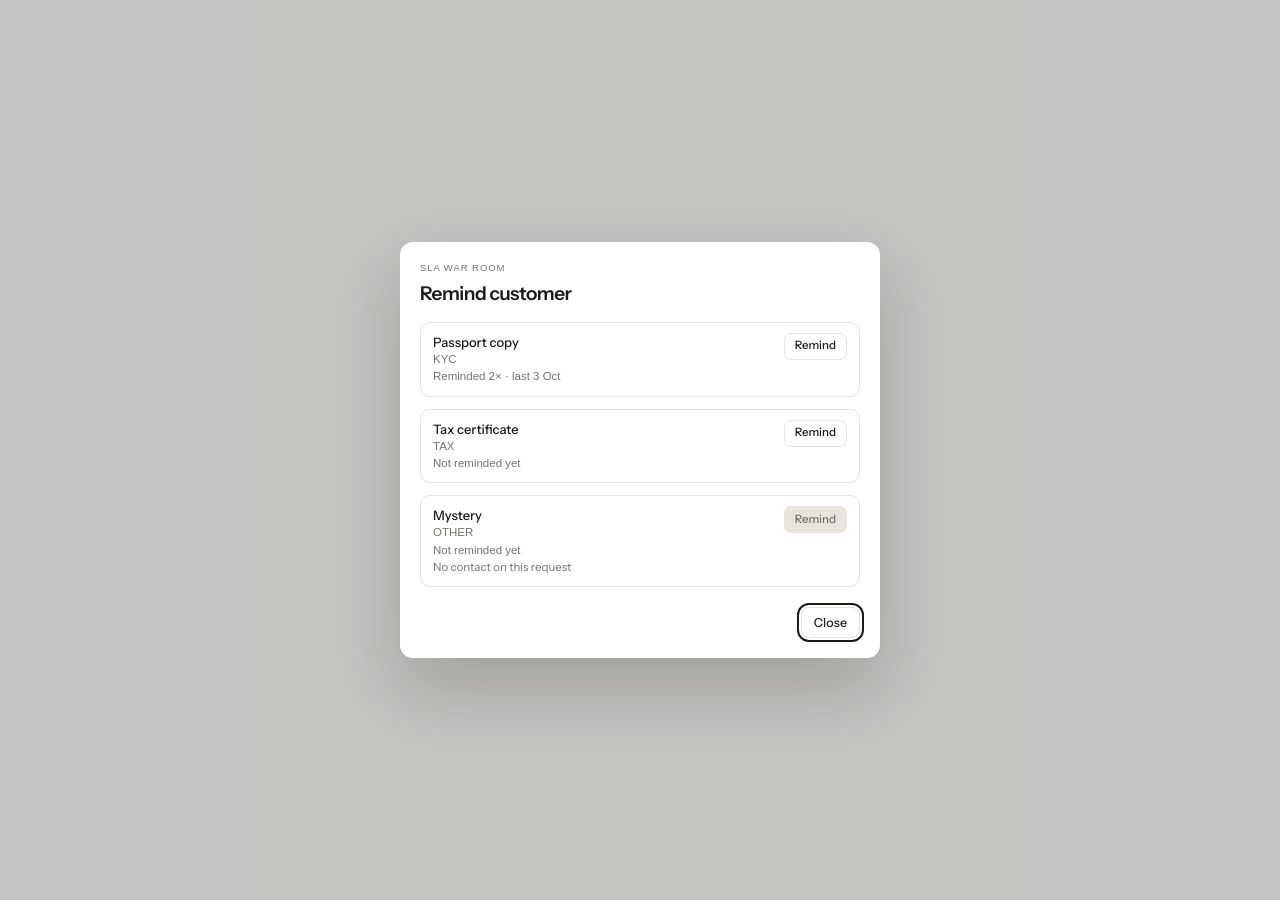
Test: RemindCustomerDialog › a 409 shows the 24-hour message on that row and keeps the dialog open
The width and height of the screenshot is (1280, 900).
Expected: the text "Tax certificate" is shown, [433,420,521,438]
Step 1. Click the button "Remind" in the row of "Tax certificate" → {"x": 815, "y": 433}, box [784,420,847,447]
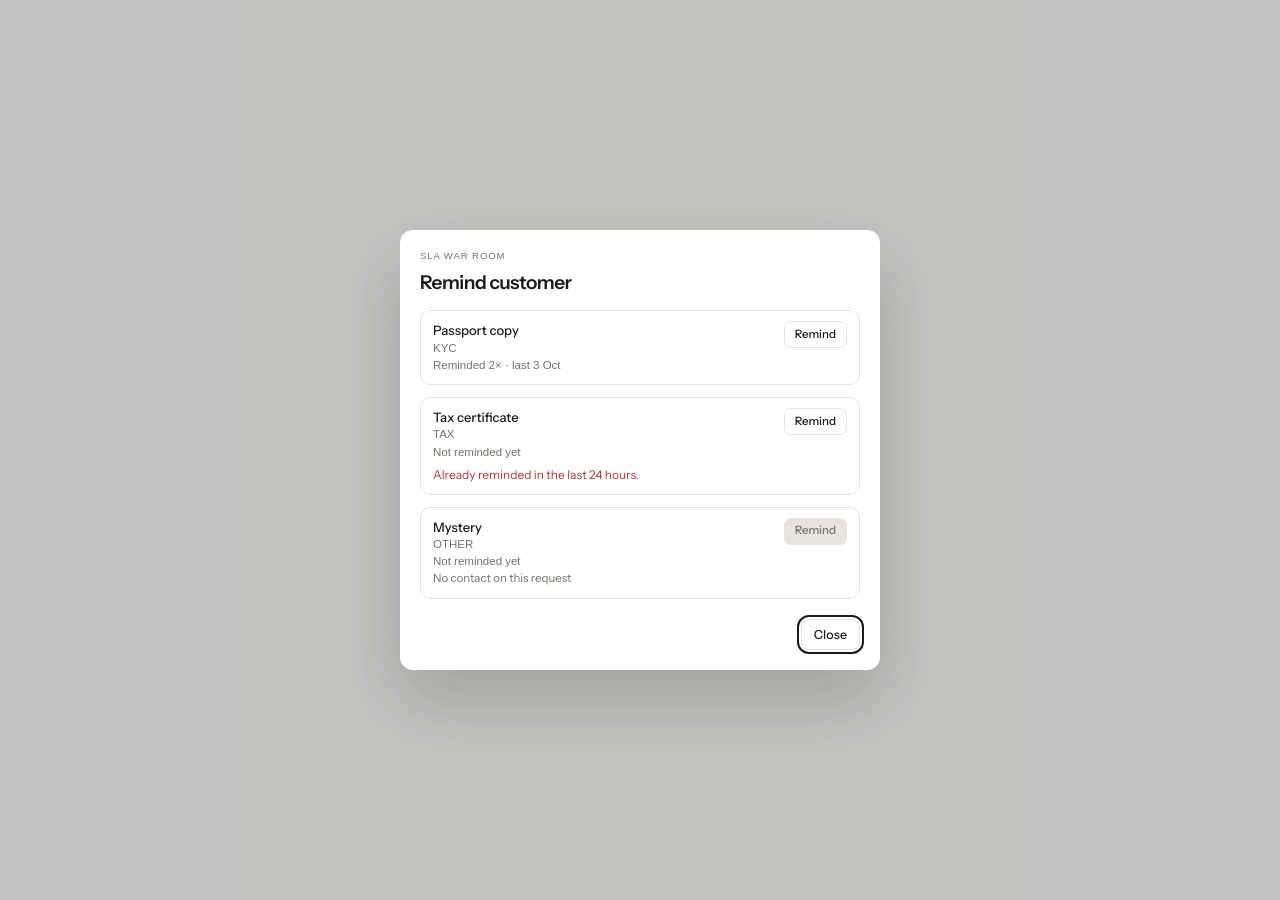
Expected: the text "Already reminded in the last 24 hours." is shown, [433,467,639,482]
